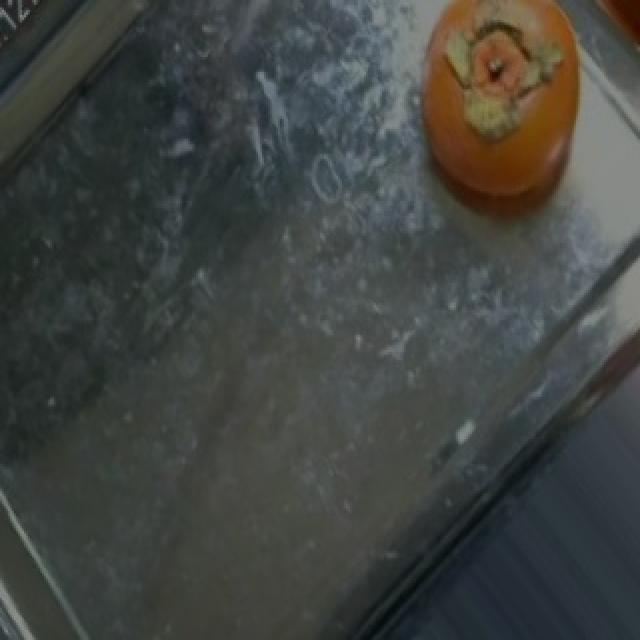Fruit: (392, 0, 610, 228)
